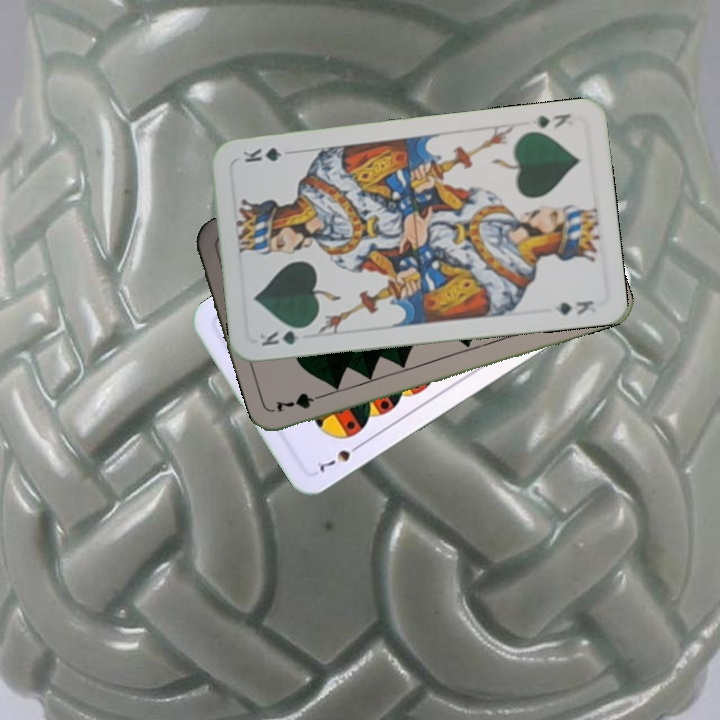G7: (273, 388, 331, 415)
GK: (255, 323, 312, 349), (532, 109, 573, 131)
S7: (312, 439, 366, 475)
